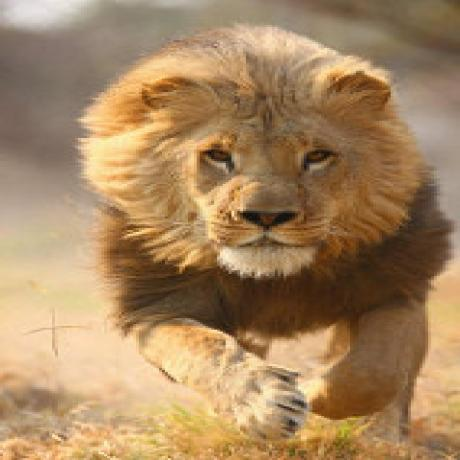Lion: (68, 23, 453, 450)
